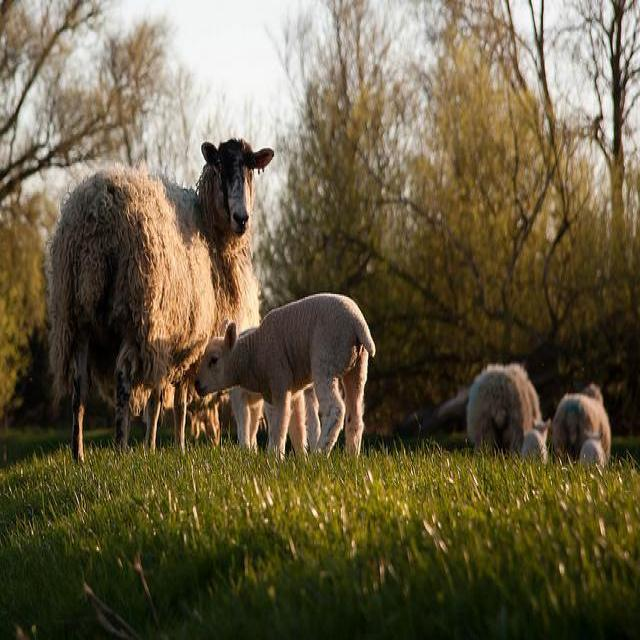Sheep: (45, 134, 278, 469), (191, 294, 379, 462), (463, 361, 544, 451), (549, 381, 613, 465)
